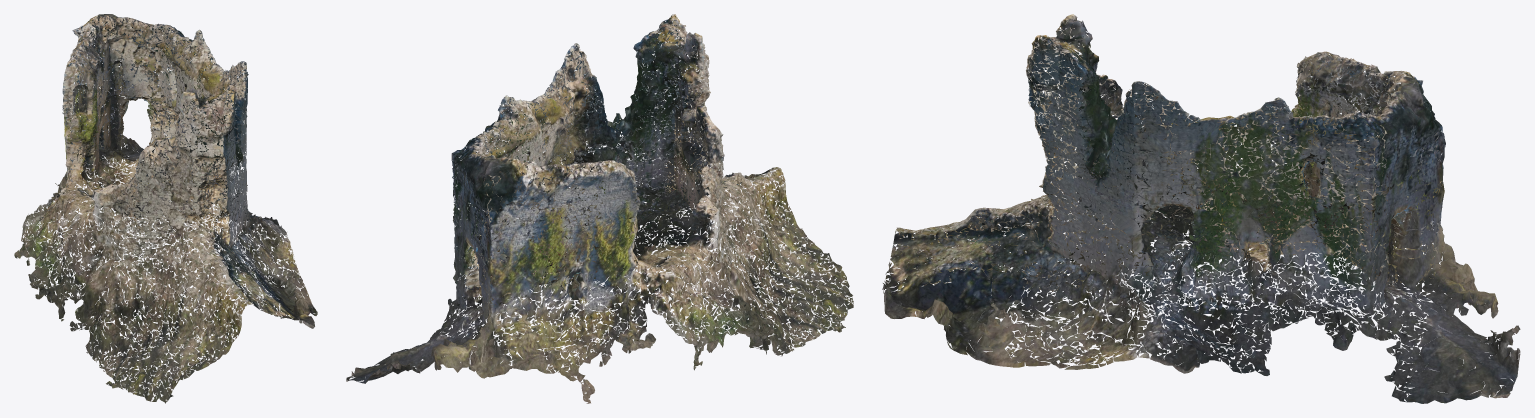
Rendered from ruina.glb.
3 views of the same model, side by side, from view 1: azimuth 30°, elevation 25°; view 2: azimuth 150°, elevation 25°; view 3: azimuth 270°, elevation 25° (orthographic). The views are drawn at different scales.
Visible parts, largest first — view 1: Object_2; view 2: Object_2; view 3: Object_2.
Part boxes in pixels (box(x1,y1,x2,y2)): Object_2: box(14, 14, 317, 403); Object_2: box(346, 14, 853, 403); Object_2: box(882, 14, 1520, 403).
Bounding box in the file's own units: 19.98 × 18.82 × 32.4.
Materials: 1 (1 with a texture image).
